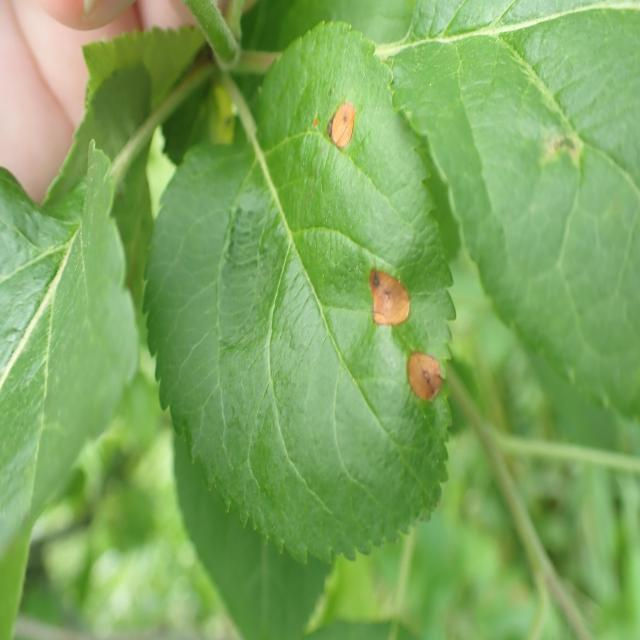Black Rot: (360, 252, 414, 342), (528, 113, 590, 180), (402, 348, 449, 429), (326, 89, 360, 178)
